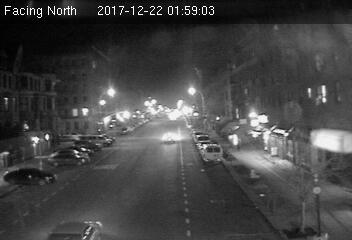car: (160, 132, 179, 145)
truck: (201, 144, 222, 164)
